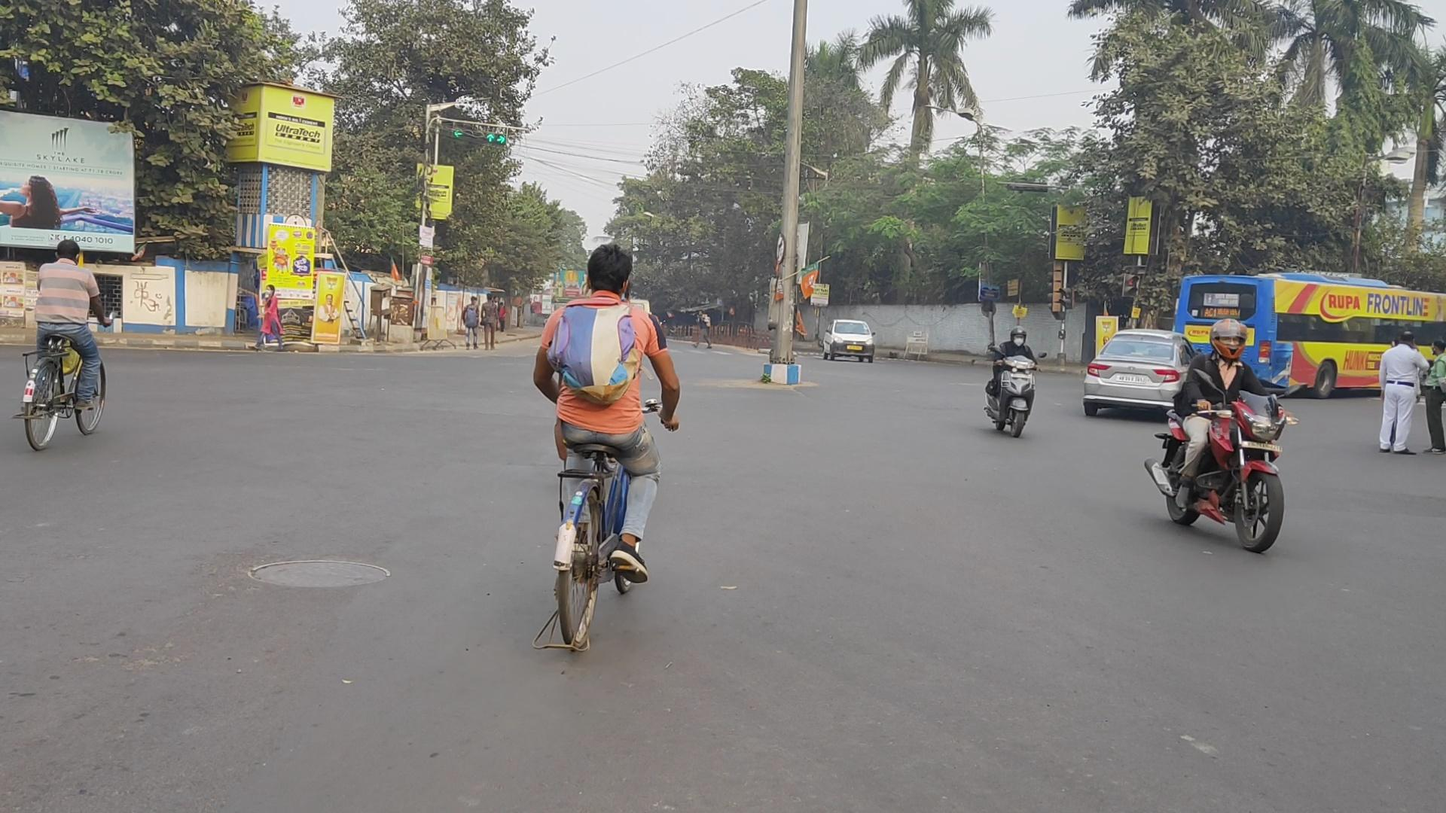Bus: (1173, 272, 1446, 399)
bike: (534, 243, 683, 653), (1145, 317, 1300, 553), (11, 240, 114, 452), (985, 327, 1048, 438)
car: (1083, 333, 1211, 422), (822, 319, 876, 364)
